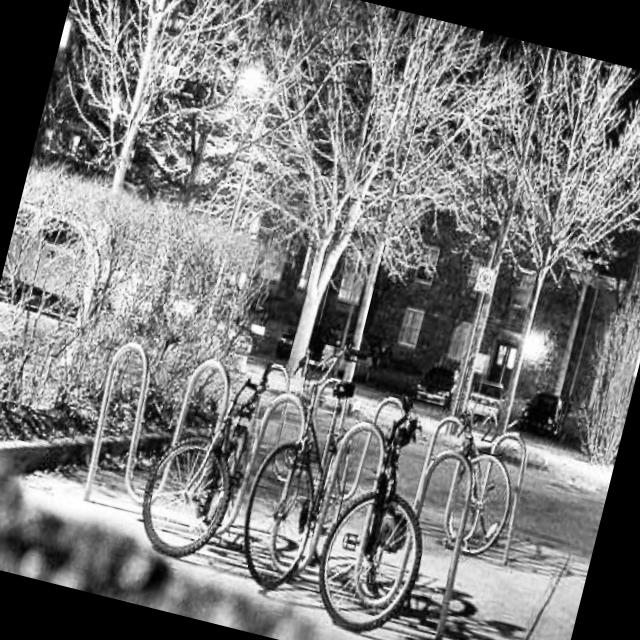Bicycle: (90, 320, 292, 586), (234, 326, 390, 604), (307, 399, 464, 640), (401, 397, 560, 610)
Car: (507, 369, 578, 454), (410, 340, 476, 416), (469, 358, 515, 435)
